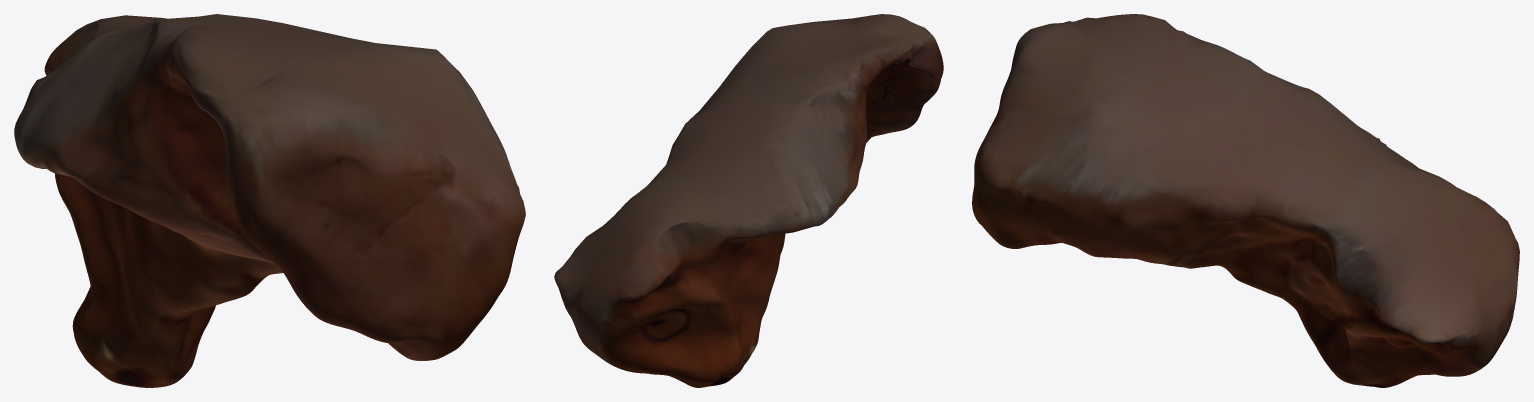
The picture shows the model from 3 angles, left to right: view 1: azimuth 30°, elevation 25°; view 2: azimuth 150°, elevation 25°; view 3: azimuth 270°, elevation 25°; orthographic projection. The views are drawn at different scales.
Size of the model in its own units: 0.3755 by 0.4539 by 0.6816.
1 material, 1 textured.
